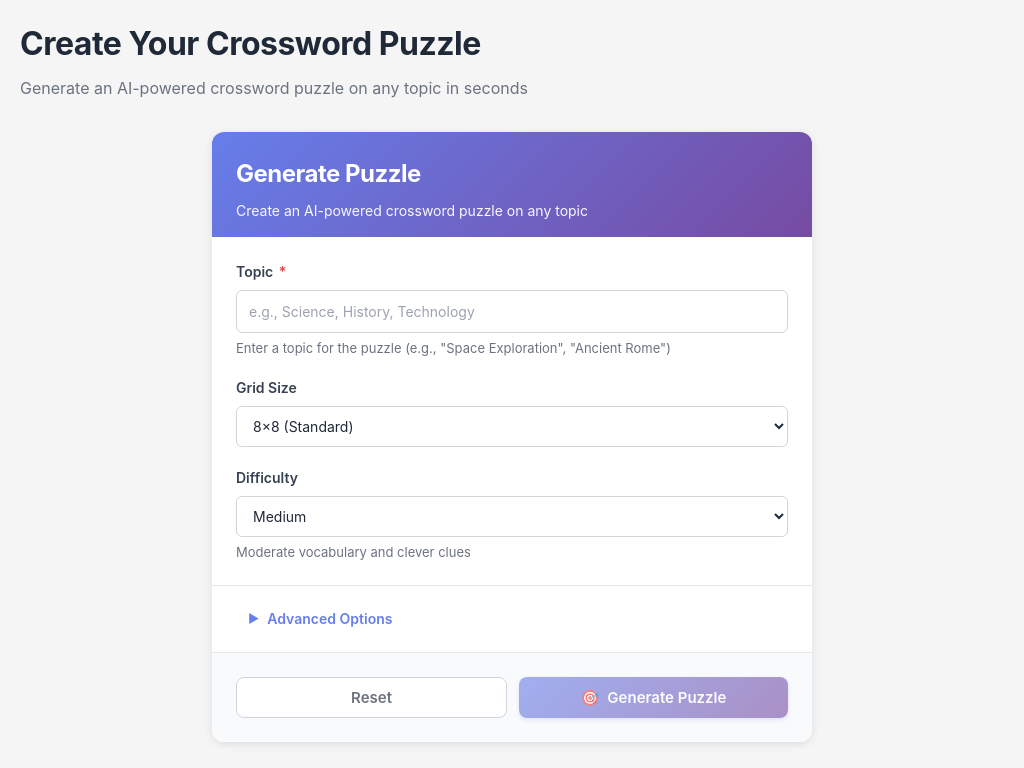
PuzzleGenerator Component › Puzzle Generation › should show loading overlay during generation
The image size is (1024, 768).
In the field with test id "topic-input": (512, 312) [236,290,788,333], type "Science"
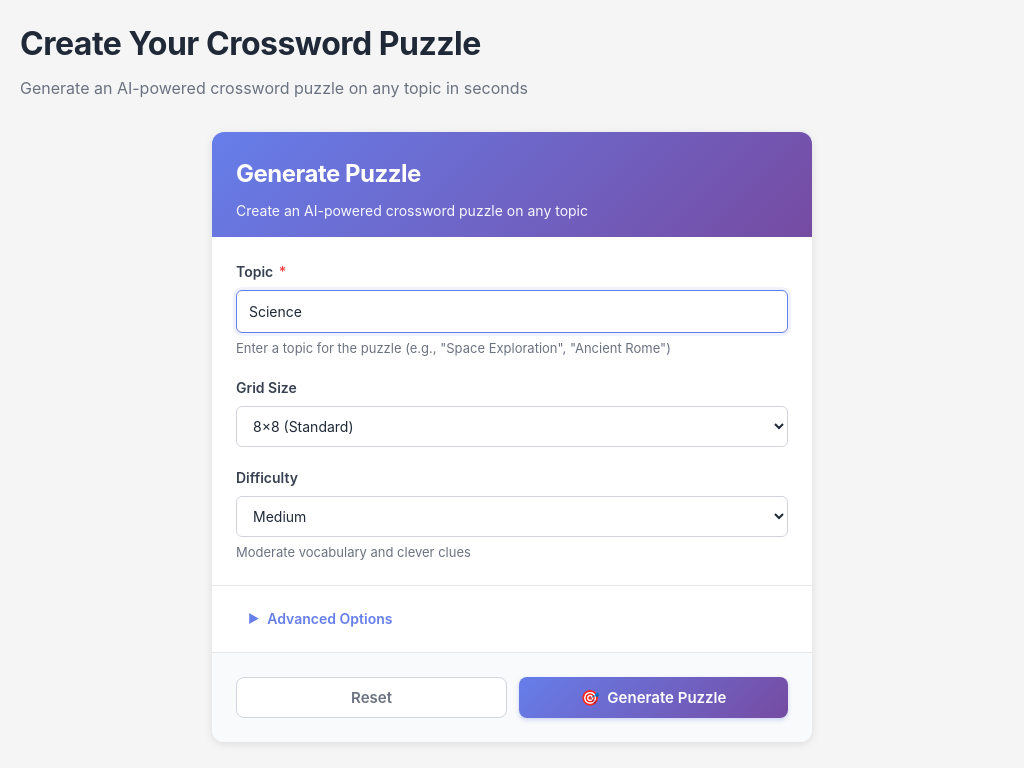
Click the button with test id "submit-button": (654, 698) [519,677,788,718]
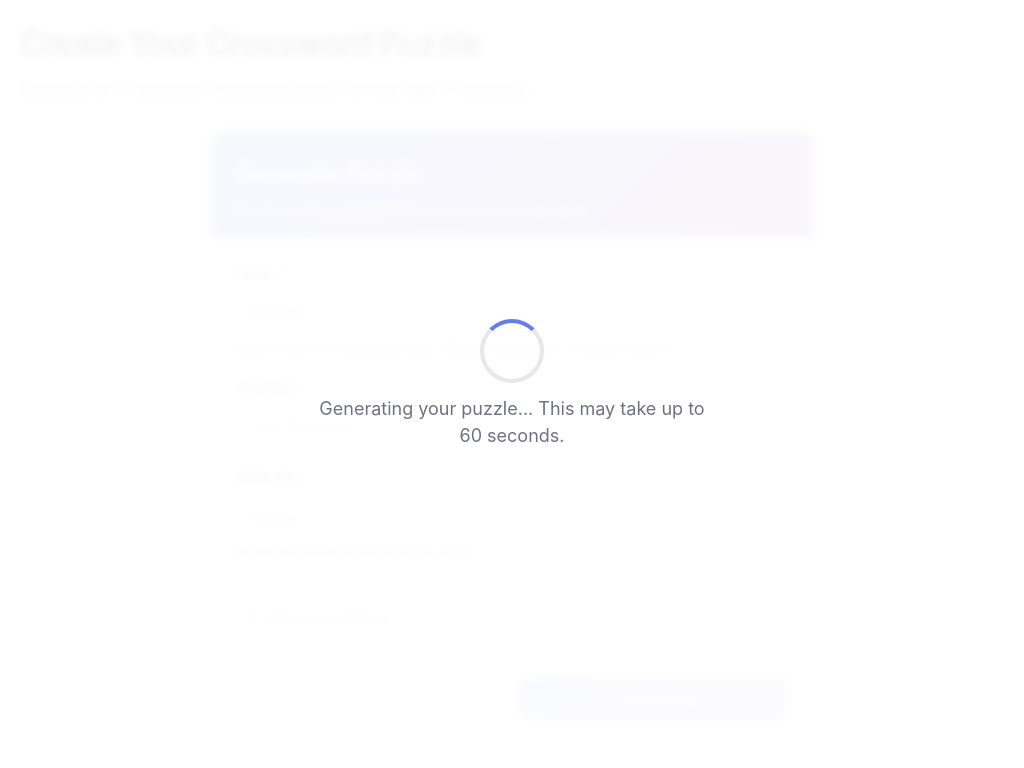
Check: the element with test id "puzzle-generator-loading-overlay" is shown
